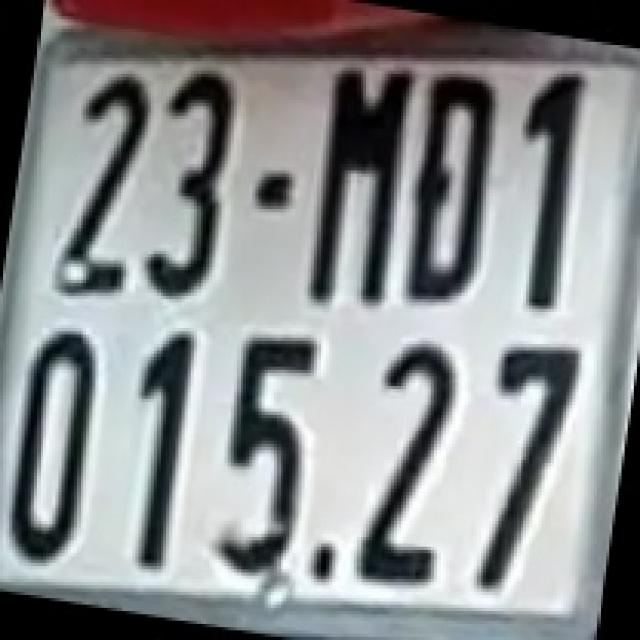0: (6, 328, 99, 563)
1: (517, 74, 588, 315), (132, 332, 197, 572)
2: (360, 341, 452, 585), (56, 74, 144, 296)
3: (151, 74, 231, 296)
5: (218, 331, 314, 576)
7: (477, 341, 581, 595)
D: (412, 74, 492, 302)
M: (311, 64, 403, 312)
